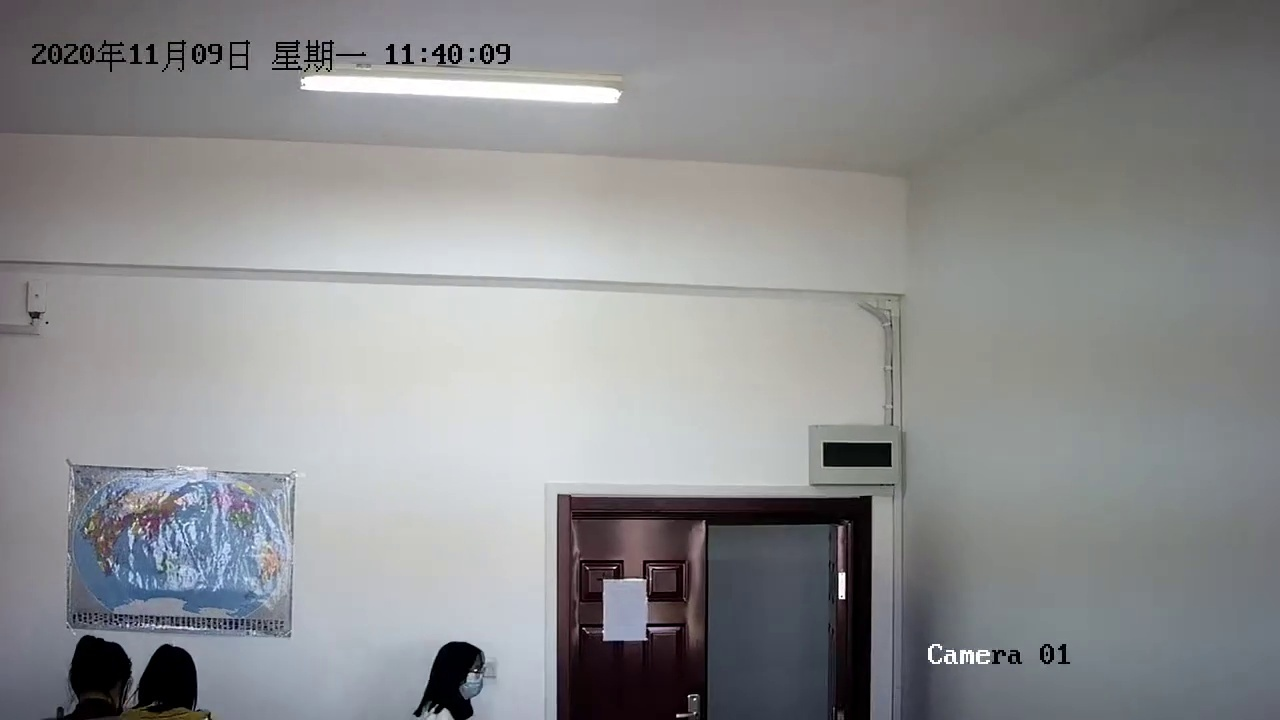mask: (430, 645, 494, 705)
